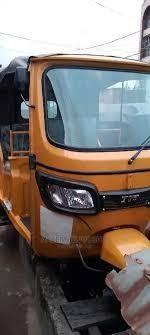keke: (0, 49, 150, 297)
